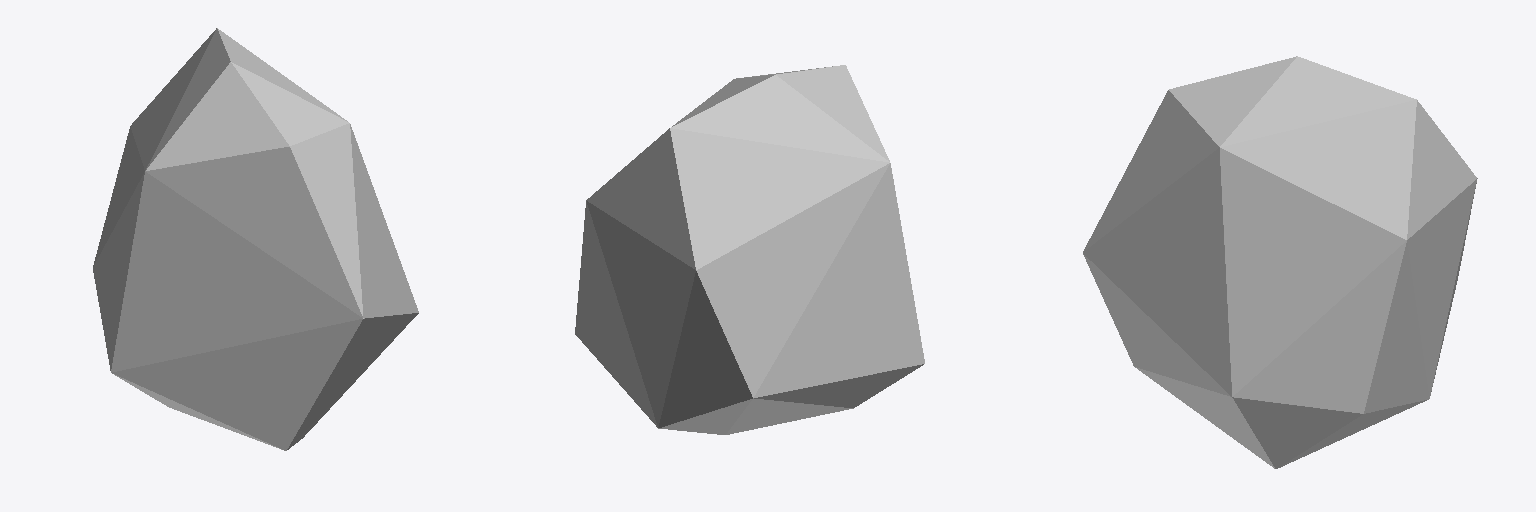
The model's file is rock.obj.
3 renders of one model, left to right at view 1: azimuth 30°, elevation 25°; view 2: azimuth 150°, elevation 25°; view 3: azimuth 270°, elevation 25°, orthographic.
Parts seen in each view (by area): view 1: Sphere; view 2: Sphere; view 3: Sphere.
Boxes of the visible parts, x1,y1,x2,y2 form: Sphere: [93, 28, 418, 450]; Sphere: [575, 65, 924, 434]; Sphere: [1083, 56, 1477, 468].
Size of the model in its own units: 1.66 by 2.02 by 1.88.